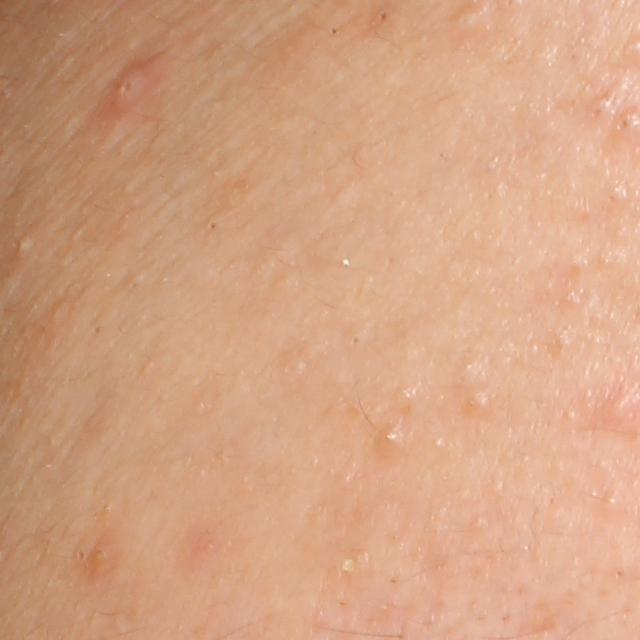comedo: (6, 226, 40, 256), (341, 323, 369, 359), (462, 386, 493, 414), (395, 381, 425, 409), (449, 7, 477, 30), (205, 210, 226, 234), (606, 185, 631, 204), (324, 20, 344, 42)
papule: (100, 59, 151, 118), (85, 530, 128, 588)
